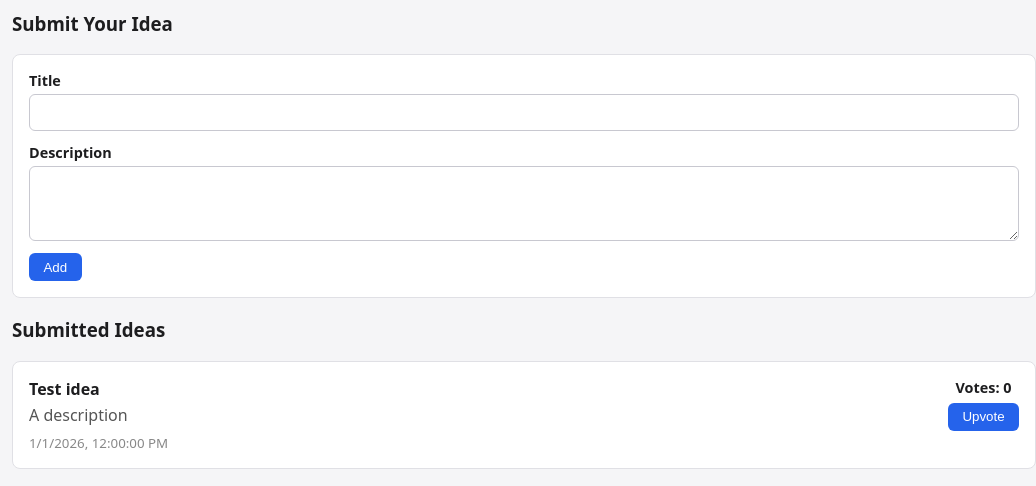
Test: IdeaView › upvotes an idea and shows the refreshed vote count
What coordinates should you click on to do the following:
click the button "Upvote"
I would click on:
 (984, 417)
Its box is [948,403,1019,431].
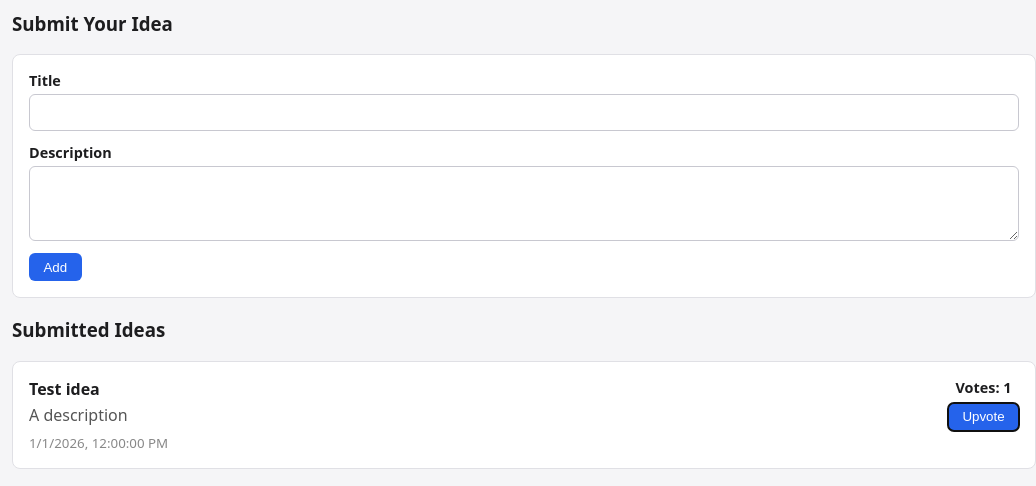
Now the text "Votes: 1" is shown, box [956,378,1012,397]
